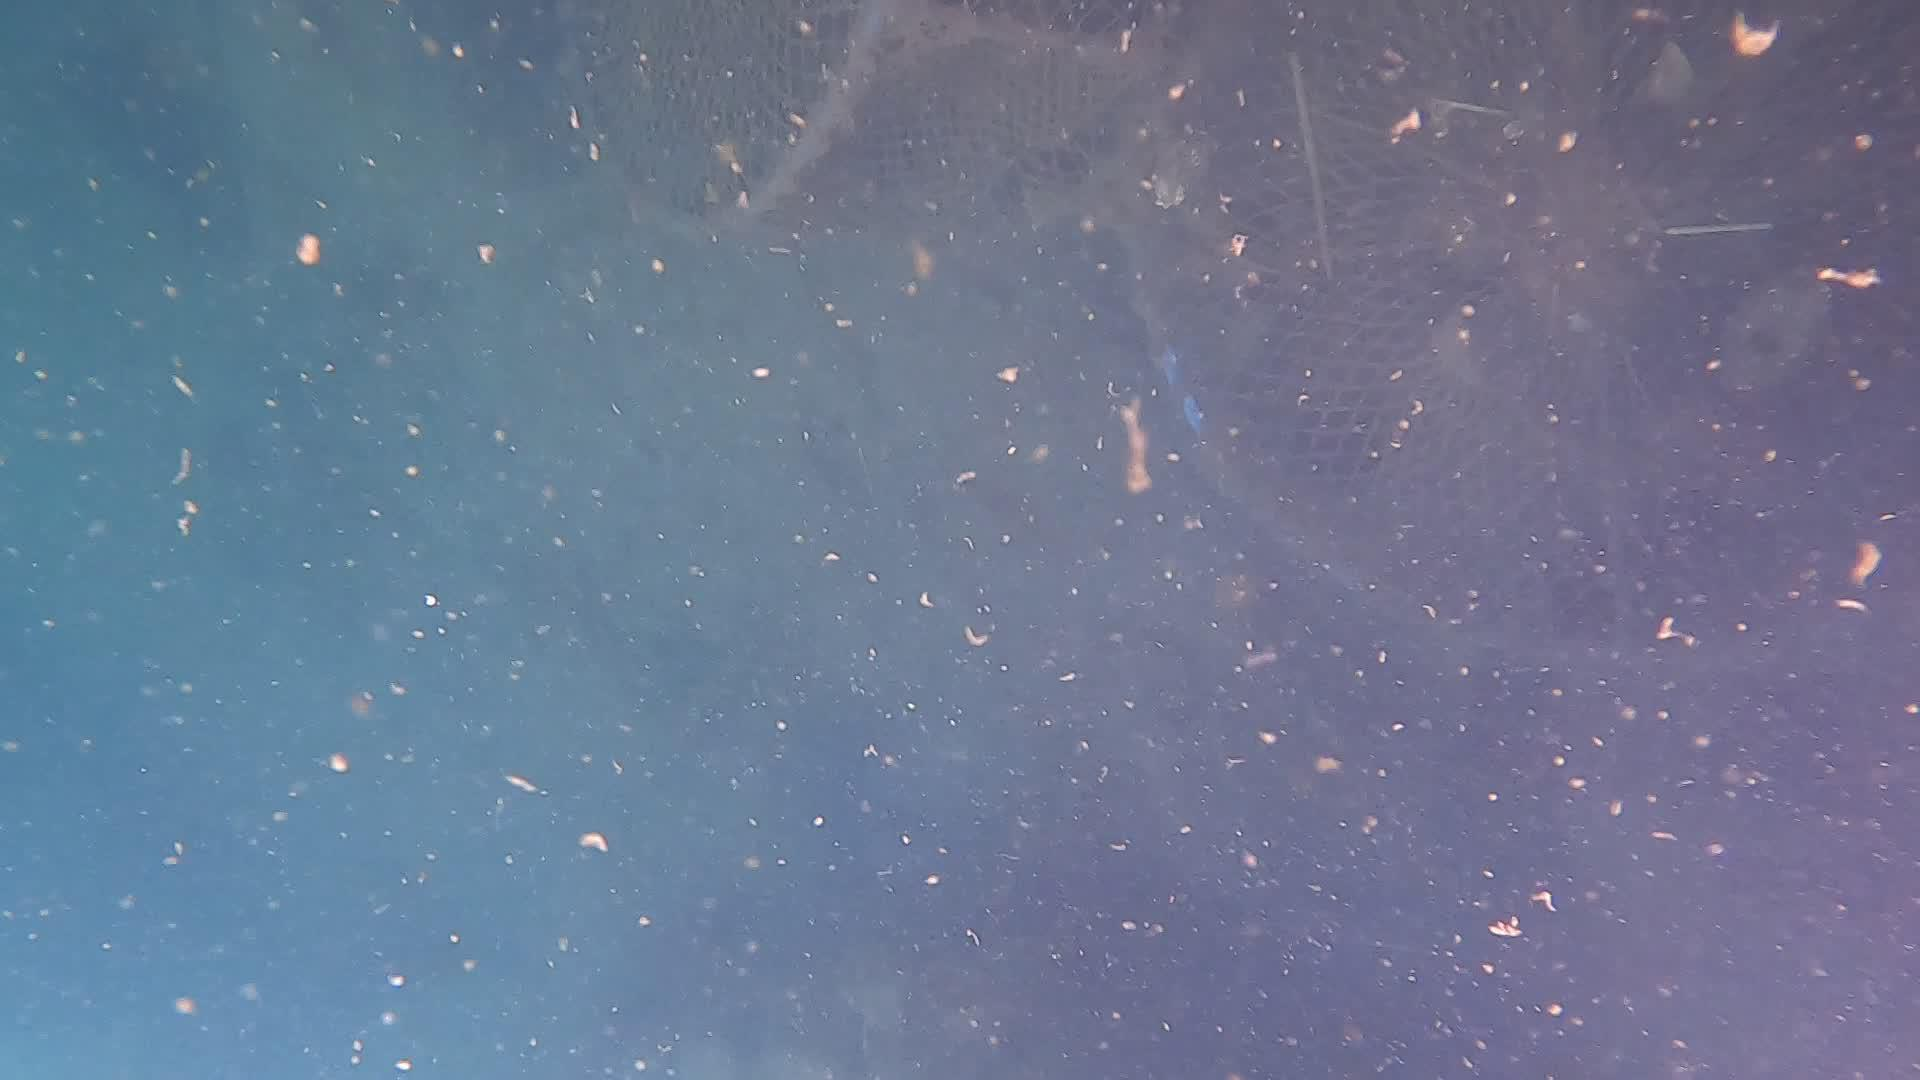circular fish trap: (1153, 0, 1920, 629), (551, 0, 1187, 249)
